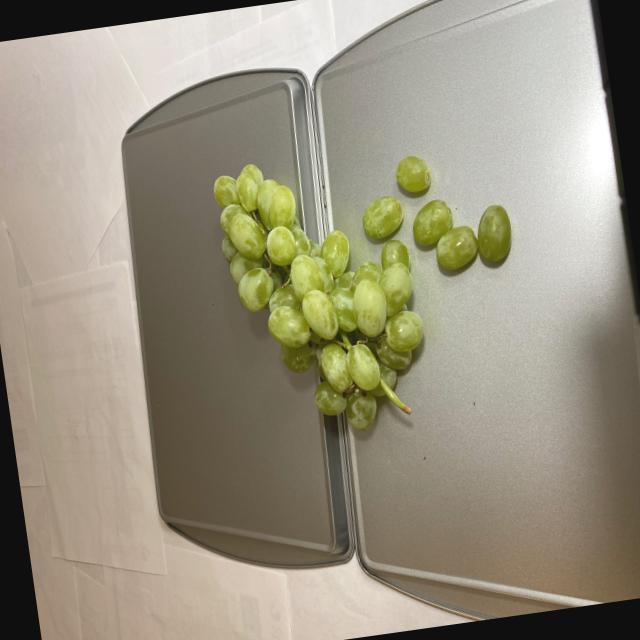grapes: (207, 125, 534, 448)
